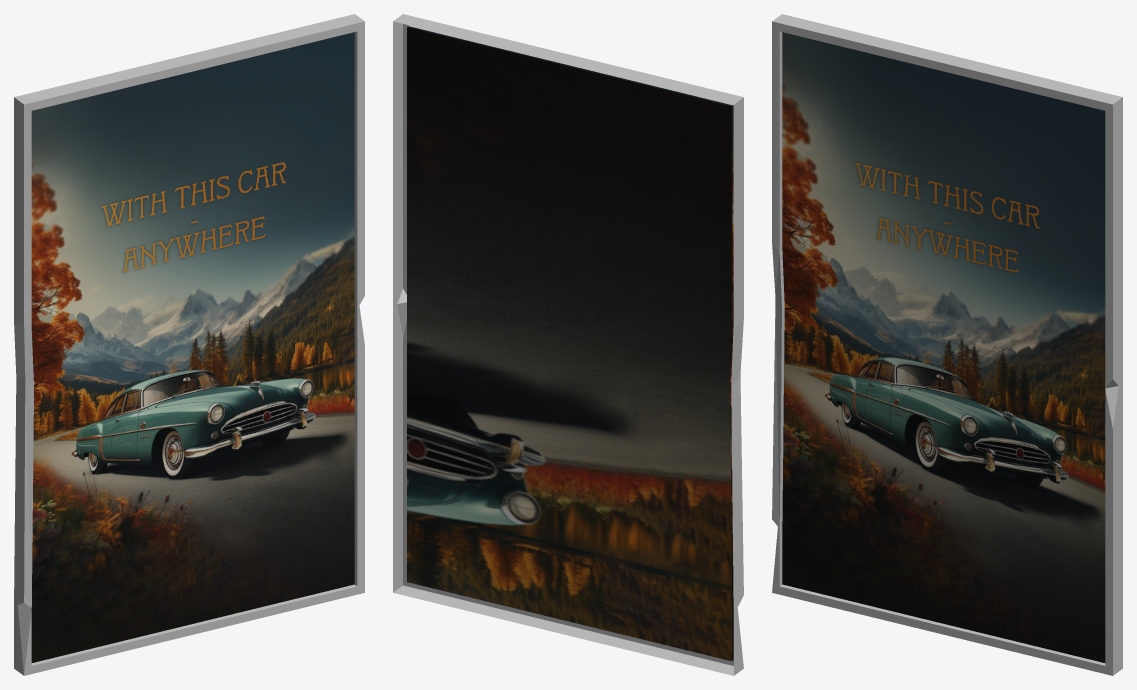
Rendered from SM_Banner_01.fbx.
The picture shows the model from 3 angles, left to right: view 1: azimuth 30°, elevation 25°; view 2: azimuth 150°, elevation 25°; view 3: azimuth 330°, elevation 25°; orthographic projection.
Visible parts, largest first — view 1: SM_Banner_01; view 2: SM_Banner_01; view 3: SM_Banner_01.
Part boxes in pixels (x1,y1,x2,y2): SM_Banner_01: (14,14,364,675); SM_Banner_01: (393,14,743,675); SM_Banner_01: (772,14,1122,675).
Bounding box in the file's own units: 97.38 × 156 × 5.
